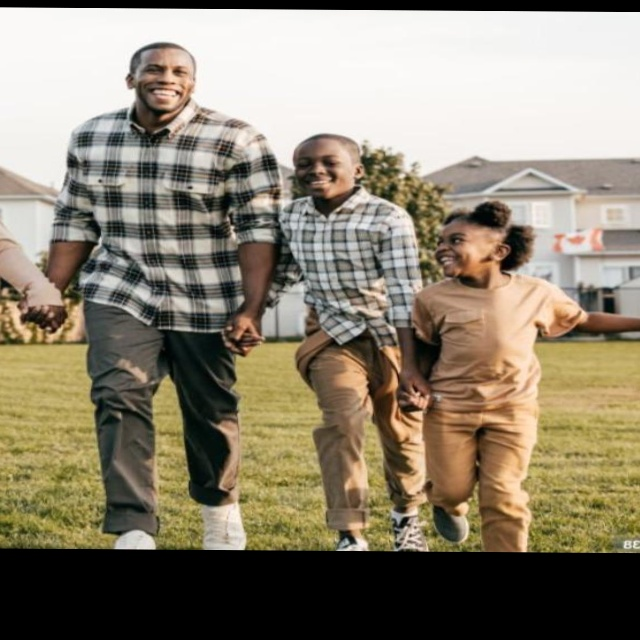Sin_Casco_Mascarrilla: (118, 43, 197, 116), (291, 133, 371, 200)
Sin_Chaleco: (56, 106, 272, 338), (415, 275, 552, 431), (277, 195, 418, 341)
